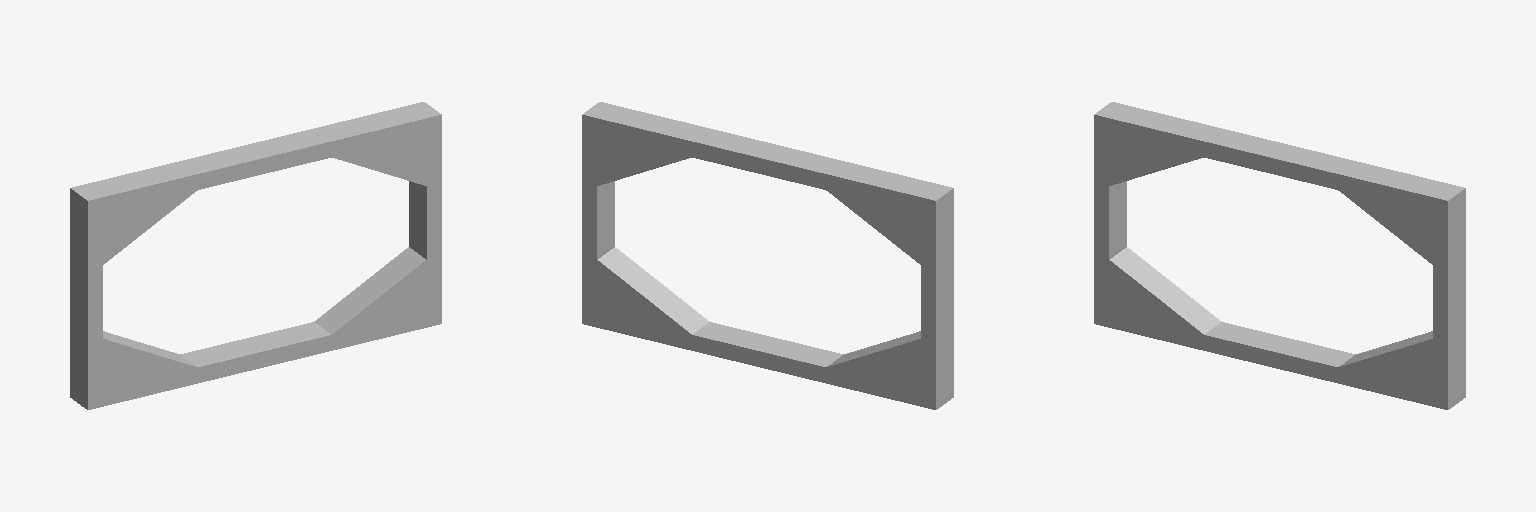
Rendered from Backwall.obj.
The picture shows the model from 3 angles: view 1: azimuth 30°, elevation 25°; view 2: azimuth 150°, elevation 25°; view 3: azimuth 330°, elevation 25°; orthographic projection.
Visible parts, largest first — view 1: obj_0; view 2: obj_0; view 3: obj_0.
Part boxes in pixels (bbox=[...]): obj_0: bbox=[70, 102, 441, 409]; obj_0: bbox=[582, 102, 953, 409]; obj_0: bbox=[1094, 102, 1465, 409].
Size of the model in its own units: 23 by 13 by 2.